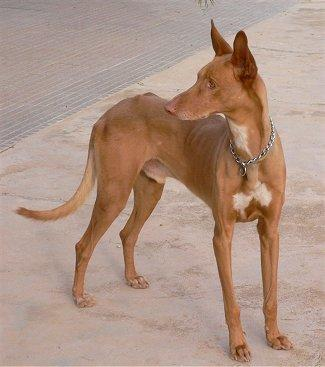Ibizan_hound: (13, 17, 294, 365)
